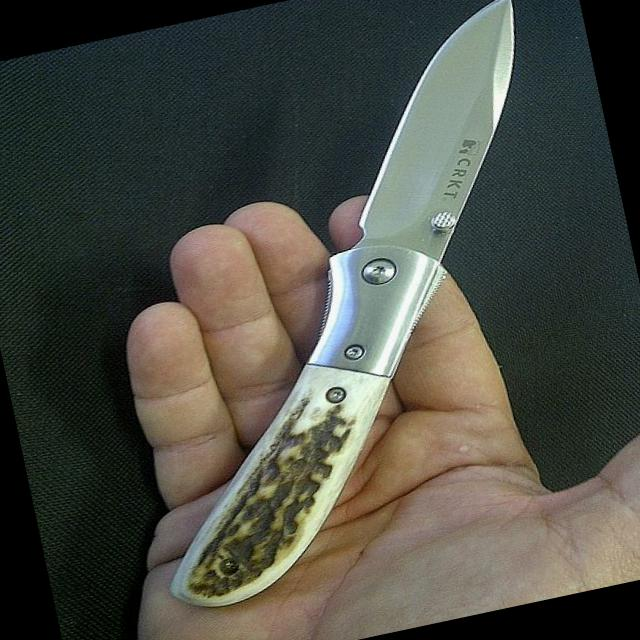knife: (175, 0, 599, 424)
